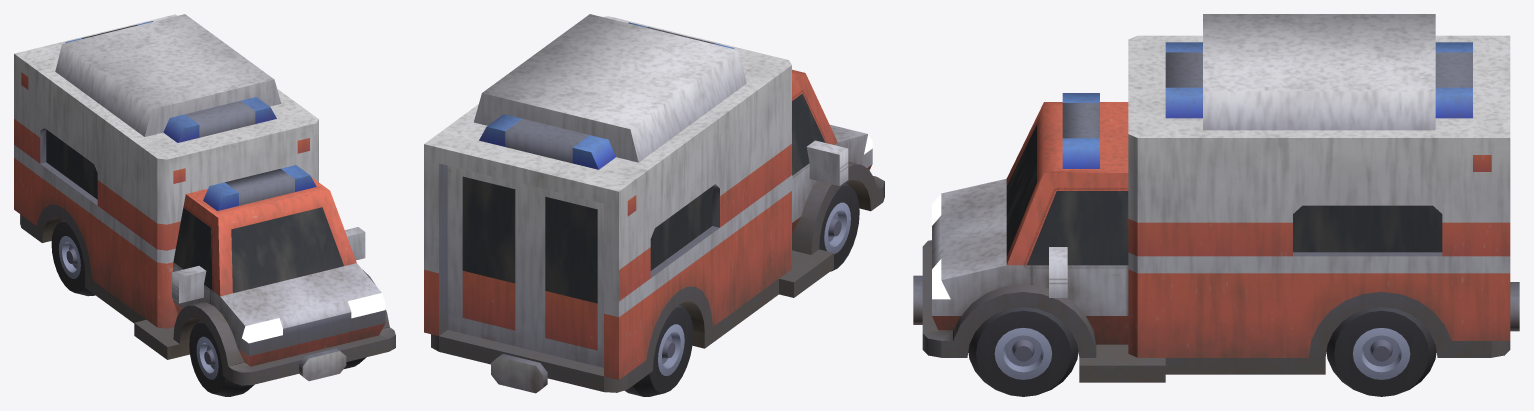
Rendered from ambulance-L3.glb.
3 renders of one model, left to right at view 1: azimuth 30°, elevation 25°; view 2: azimuth 150°, elevation 25°; view 3: azimuth 270°, elevation 25°, orthographic. The views are drawn at different scales.
Parts seen in each view (by area): view 1: body, wheel-front-right, wheel-back-right; view 2: body, door-left, door-right, wheel-back-right, wheel-front-right; view 3: body, wheel-back-left, wheel-front-left.
Boxes of the visible parts, x1,y1,x2,y2 form: body: (14,14,395,385); wheel-front-right: (189,320,254,396); wheel-back-right: (51,219,95,296); body: (424,14,884,393); door-left: (447,165,530,349); door-right: (530,186,603,367); wheel-back-right: (624,304,693,396); wheel-front-right: (819,183,859,271); body: (913,14,1519,382); wheel-back-left: (1326,307,1436,396); wheel-front-left: (968,307,1078,396).
Bounding box in the file's own units: 1.5 × 1.8 × 3.25.
Materials: 7 (7 with a texture image).
